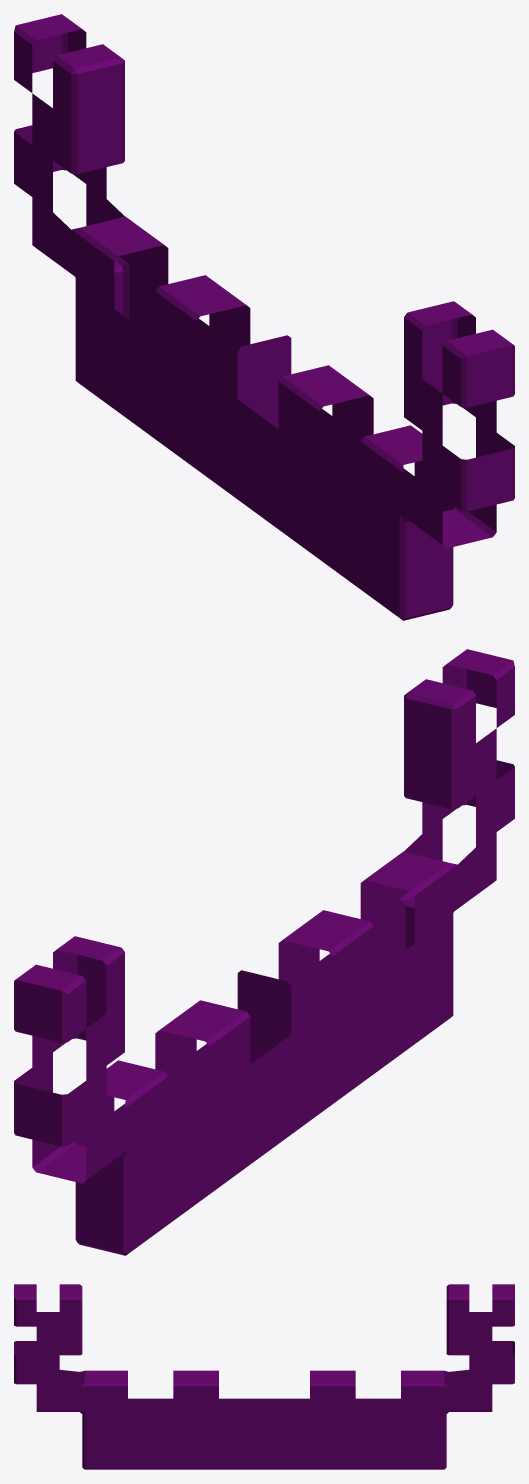
Rendered from Escudo 3.fbx.
The picture shows the model from 3 angles, top to bottom: view 1: azimuth 30°, elevation 25°; view 2: azimuth 150°, elevation 25°; view 3: azimuth 270°, elevation 25°; orthographic projection. The views are drawn at different scales.
Visible parts, largest first — view 1: Escudo 2 Roto 2; view 2: Escudo 2 Roto 2; view 3: Escudo 2 Roto 2.
Boxes of the visible parts, left/top/right/bottom form: Escudo 2 Roto 2: left=14, top=14, right=514, bottom=620; Escudo 2 Roto 2: left=14, top=649, right=514, bottom=1255; Escudo 2 Roto 2: left=14, top=1284, right=514, bottom=1469.
Size of the model in its own units: 10.23 by 56.57 by 149.
